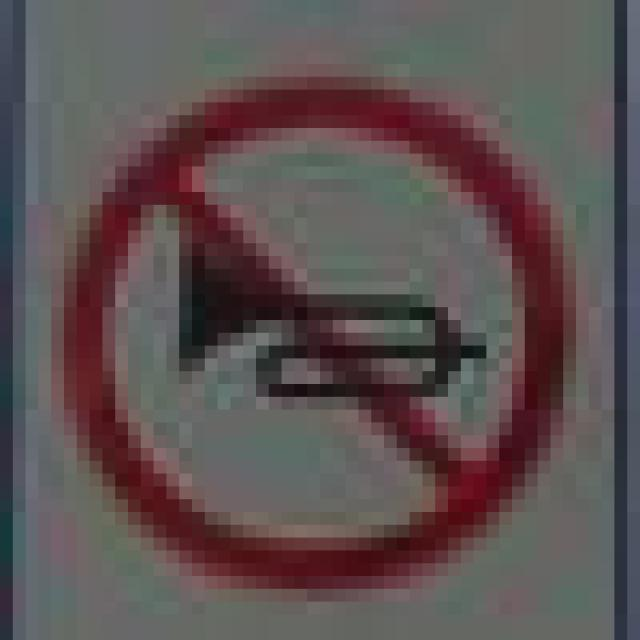HORN_PROHIBITED: (52, 64, 550, 589)
